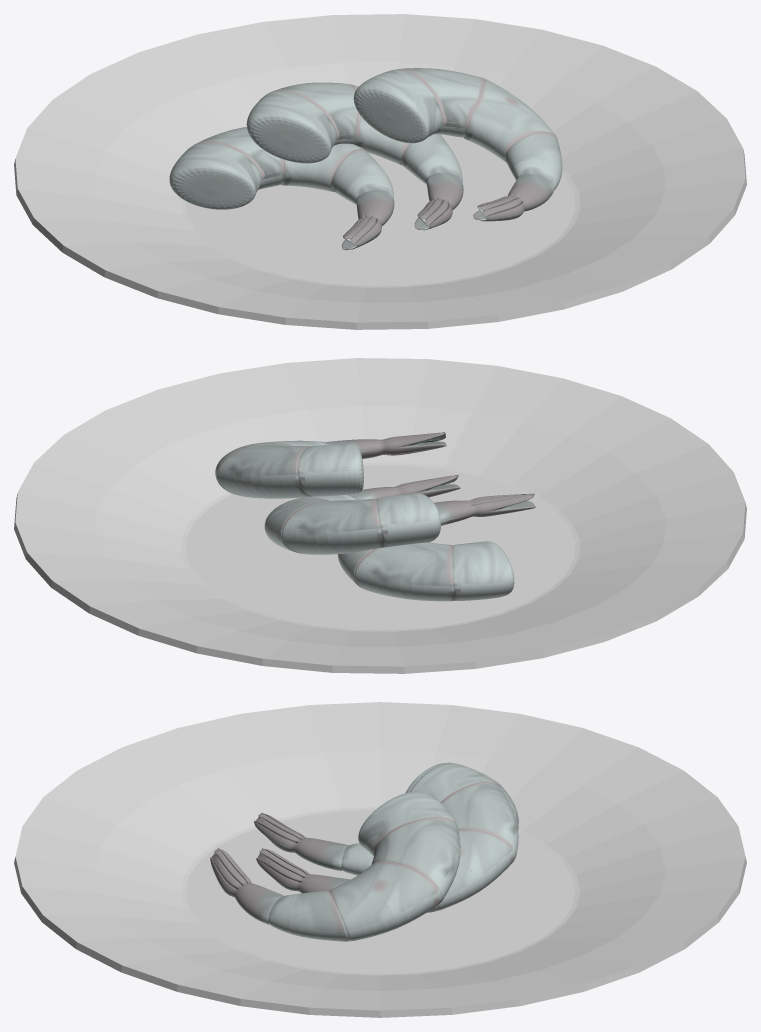
Rendered from trimmed_shrimp.fbx.
3 views of the same model, one above another, from view 1: azimuth 30°, elevation 25°; view 2: azimuth 150°, elevation 25°; view 3: azimuth 270°, elevation 25° (orthographic).
Parts seen in each view (by area): view 1: 원형.030, 실린더.037; view 2: 원형.030, 실린더.037; view 3: 원형.030, 실린더.037.
Part boxes in pixels (box(x1,y1,x2,y2)): 원형.030: box(14, 14, 746, 329); 실린더.037: box(169, 68, 562, 250); 원형.030: box(14, 358, 746, 673); 실린더.037: box(215, 432, 535, 601); 원형.030: box(14, 702, 746, 1017); 실린더.037: box(210, 762, 518, 941).
Size of the model in its own units: 293 by 54.48 by 293.
